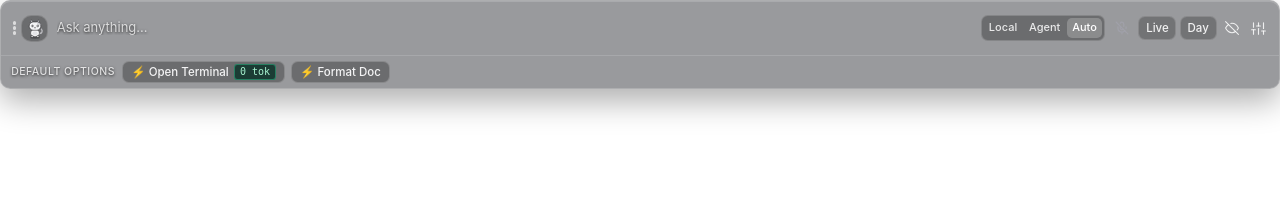
Scenario: FloatingBar › deduplicates step 0 speech across ask() + step-changed, speaks errors, and stops on Escape/overlay-cleared
The image size is (1280, 206).
Type "Remove background" into the field with test id "bar-query-input" at (515, 28), box [52,18,978,37]
Then press Enter
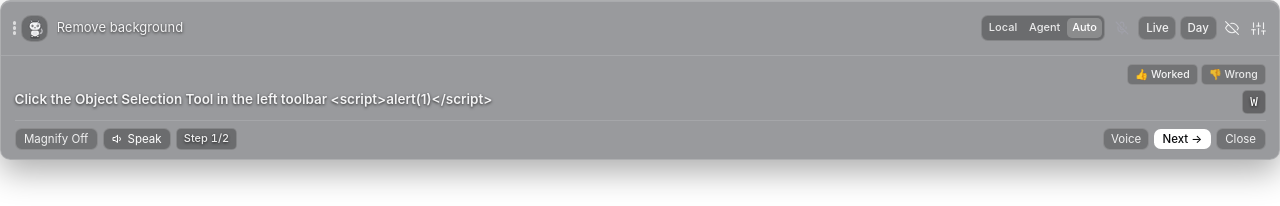
Now the element with test id "response-block" is shown, box [1,55,1279,159]
// Advancing to step 2 stops previous speech and speaks step 2 once
Click the button with test id "next-step-btn" at (1182, 139), box [1154,129,1211,149]
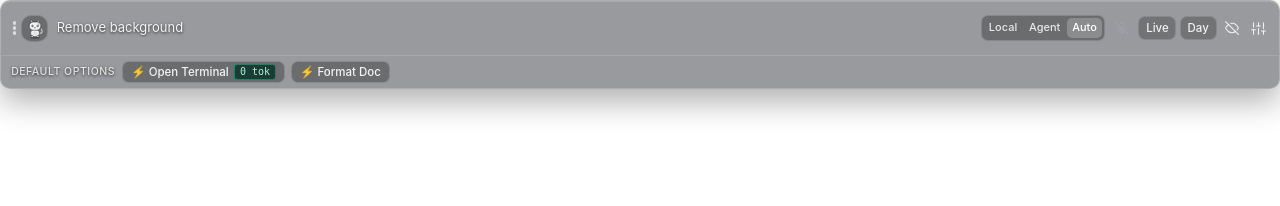
// Error cue spoken on ask failure
Replace the text in the field with test id "bar-query-input" with "timeout-test" at (515, 28), box [52,18,978,37]
Then press Enter
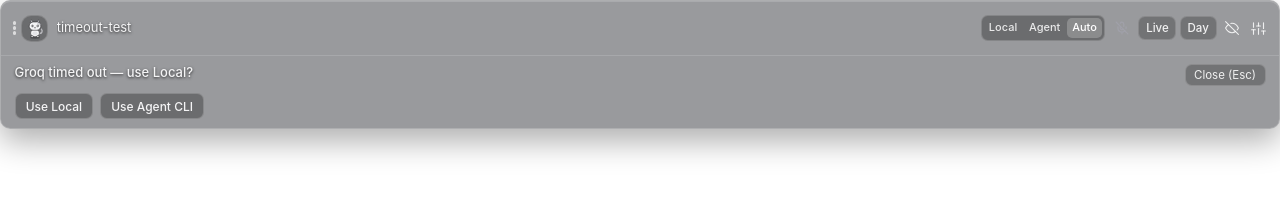
Now the message "Groq timed out — use Local? Close (Esc) Use Local Use Agent CLI" is shown, box [1,55,1279,128]
